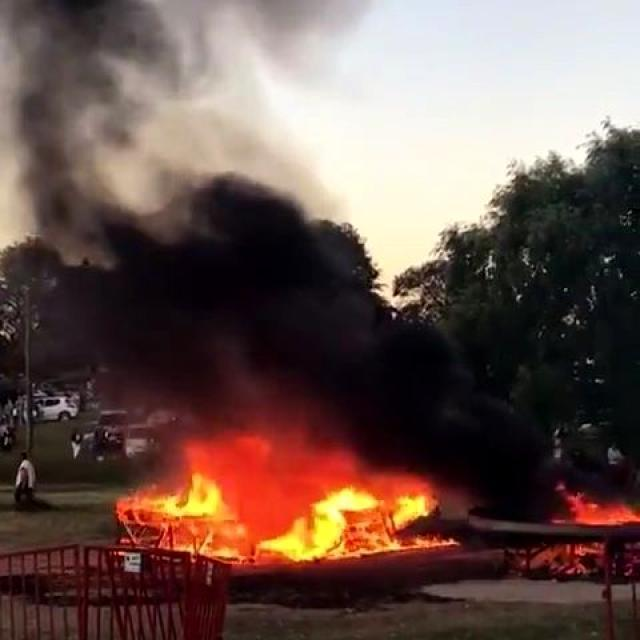Fire: (122, 440, 452, 572), (511, 536, 608, 584), (554, 481, 638, 534)
Smoke: (6, 0, 464, 450)
